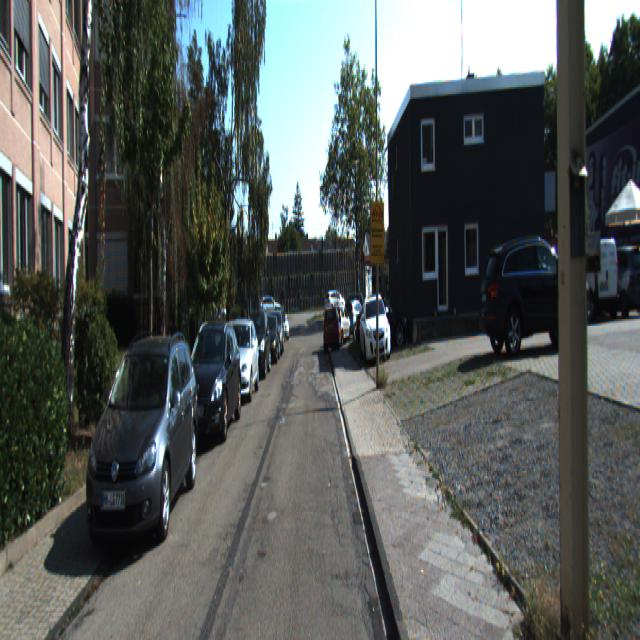Car: (78, 326, 202, 573), (477, 221, 593, 356), (175, 313, 243, 448), (563, 236, 621, 322), (218, 319, 260, 408), (356, 295, 408, 355), (359, 291, 391, 363), (242, 312, 272, 383), (260, 315, 280, 368), (322, 303, 342, 356), (342, 298, 366, 340), (324, 289, 346, 317), (258, 294, 280, 318)
